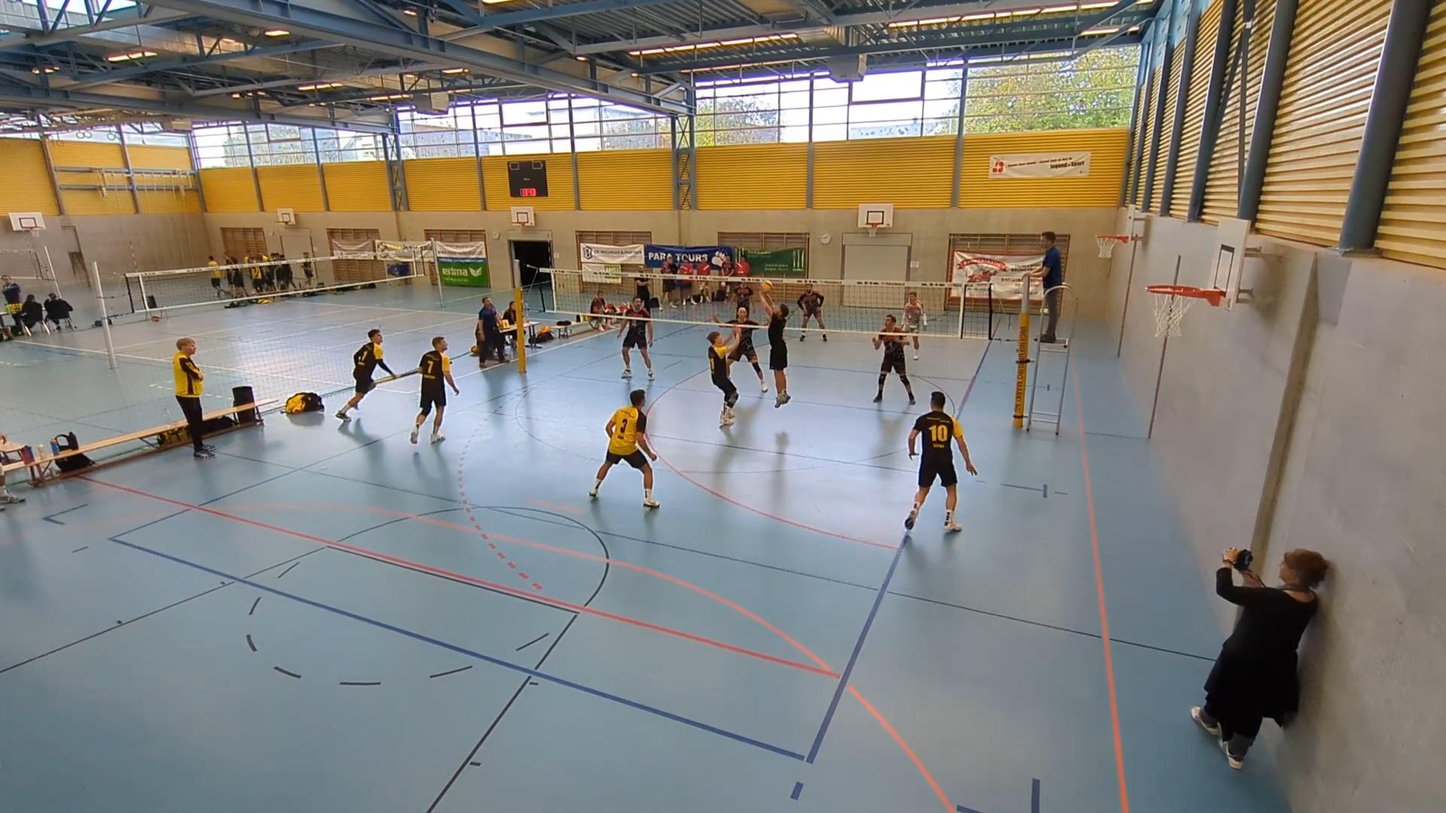alzata: (760, 293, 797, 409)
